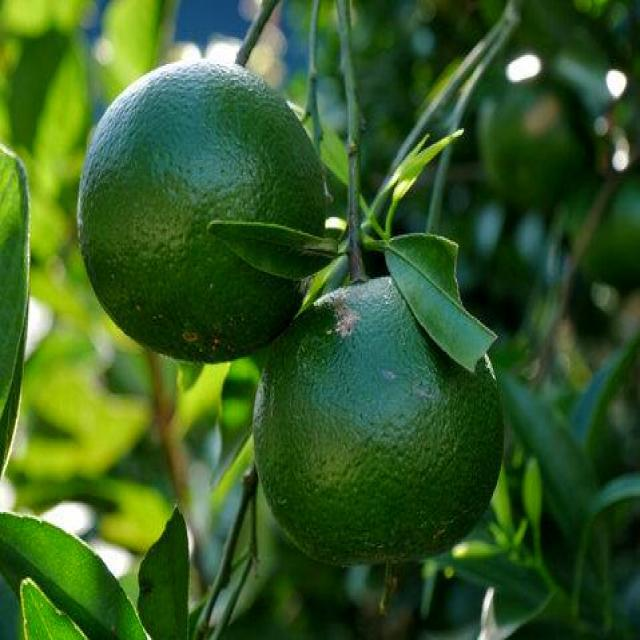Jeruk Belum Matang: (78, 59, 326, 358), (258, 279, 507, 565)
